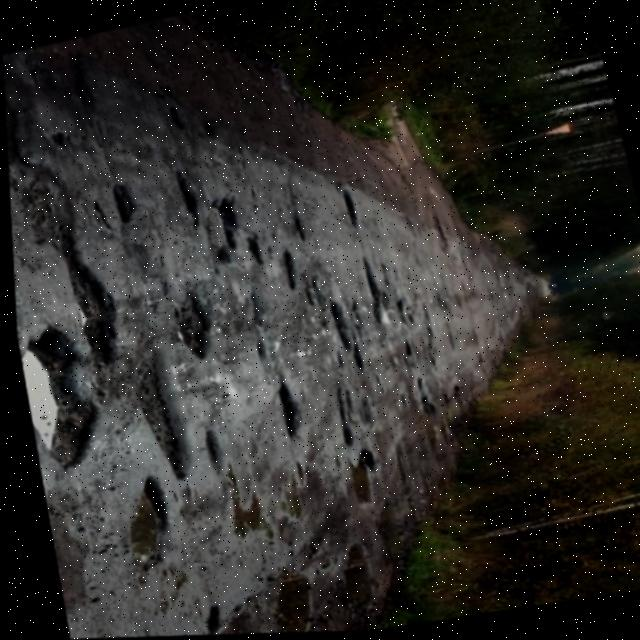Pothole: (13, 328, 113, 476), (118, 363, 197, 474), (107, 474, 187, 565), (60, 262, 134, 358), (16, 162, 88, 244), (156, 292, 235, 361), (241, 564, 317, 635), (2, 50, 39, 165), (334, 447, 388, 508), (199, 193, 255, 250), (254, 378, 306, 438), (209, 492, 272, 539), (92, 180, 147, 230), (318, 301, 354, 349)
